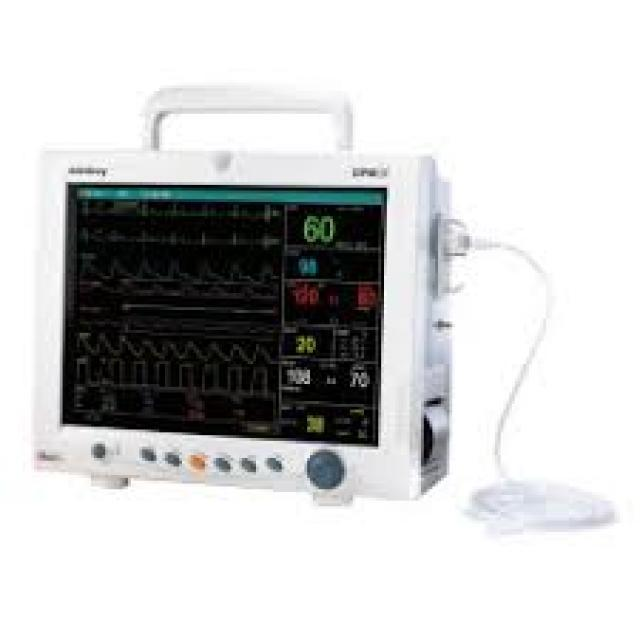cardiac_monitor: (23, 117, 451, 505)
